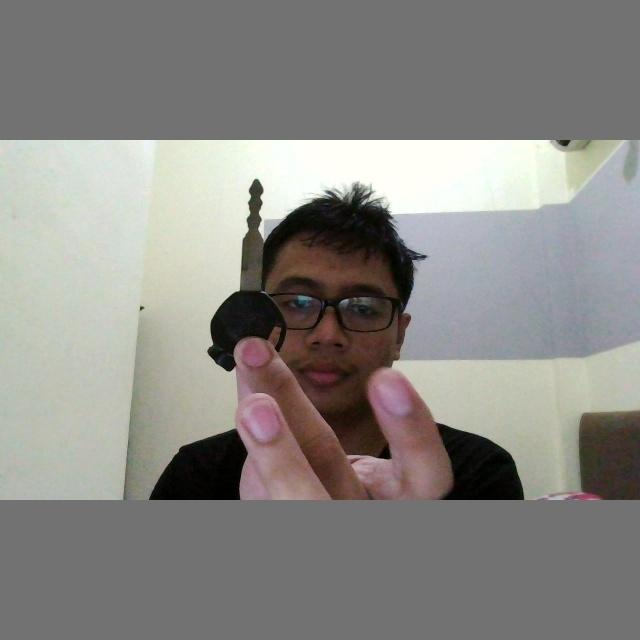Keys: (203, 171, 289, 379)
